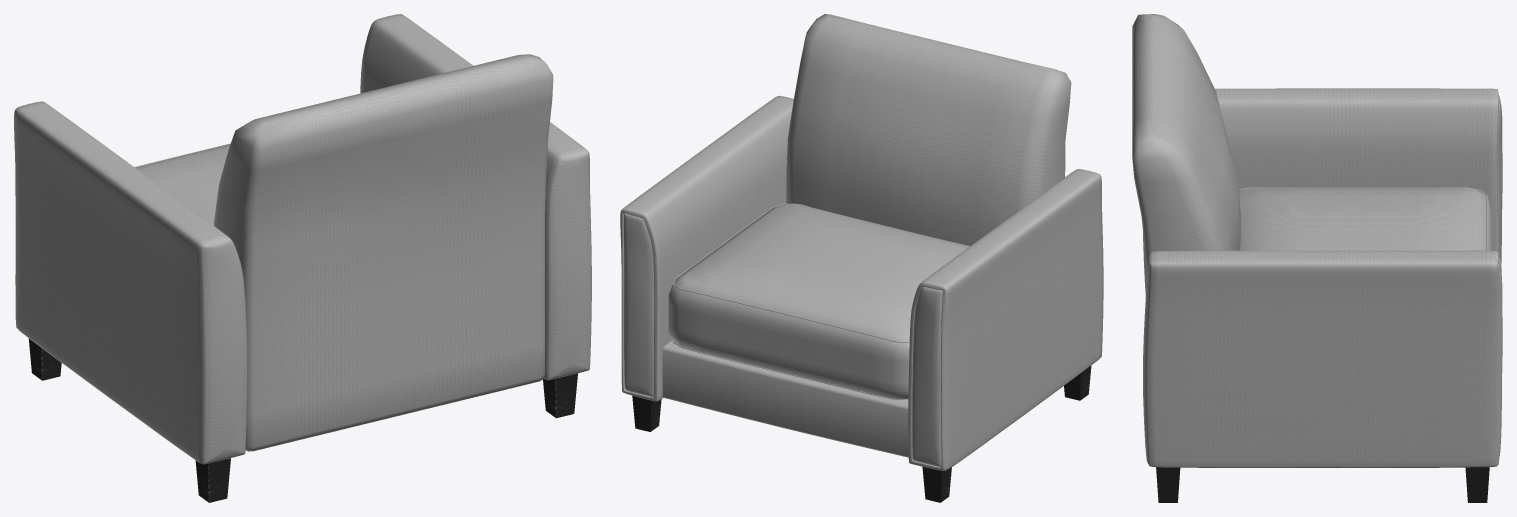
The model's file is single_sofa_grey.fbx.
3 views of the same model, side by side, from view 1: azimuth 30°, elevation 25°; view 2: azimuth 150°, elevation 25°; view 3: azimuth 270°, elevation 25° (orthographic). The views are drawn at different scales.
Visible parts, largest first — view 1: Cube.080; view 2: Cube.080; view 3: Cube.080.
Boxes of the visible parts, x1,y1,x2,y2 form: Cube.080: (14,14,591,502); Cube.080: (620,14,1103,502); Cube.080: (1132,14,1502,502).
Bounding box in the file's own units: 95.88 × 87.24 × 84.85.
